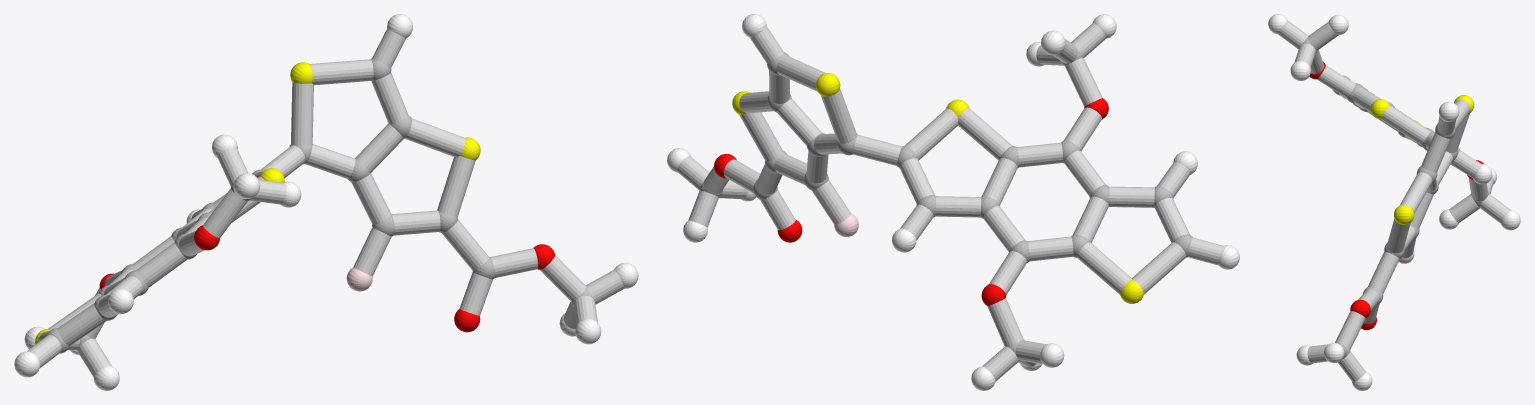
The model's file is color.glb.
The picture shows the model from 3 angles, left to right: view 1: azimuth 30°, elevation 25°; view 2: azimuth 150°, elevation 25°; view 3: azimuth 270°, elevation 25°; orthographic projection. The views are drawn at different scales.
Parts seen in each view (by area): view 1: grp15205, grp8689, grp1, grp13395, grp7241; view 2: grp15205, grp8689, grp1, grp7241, grp13395; view 3: grp15205, grp8689, grp1, grp7241, grp13395.
Part boxes in pixels (<box>): grp15205: <box>27,28,624,376</box>; grp8689: <box>14,14,638,390</box>; grp1: <box>46,58,592,353</box>; grp13395: <box>99,225,554,332</box>; grp7241: <box>35,62,480,344</box>; grp15205: <box>677,23,1223,381</box>; grp8689: <box>667,14,1239,390</box>; grp1: <box>699,48,1192,361</box>; grp7241: <box>732,73,1143,303</box>; grp13395: <box>714,98,1108,305</box>; grp15205: <box>1278,21,1510,381</box>; grp8689: <box>1268,14,1520,390</box>; grp1: <box>1301,37,1489,355</box>; grp7241: <box>1370,95,1474,224</box>; grp13395: <box>1309,62,1483,330</box>.
Size of the model in its own units: 16.19 by 7.8 by 7.37.
